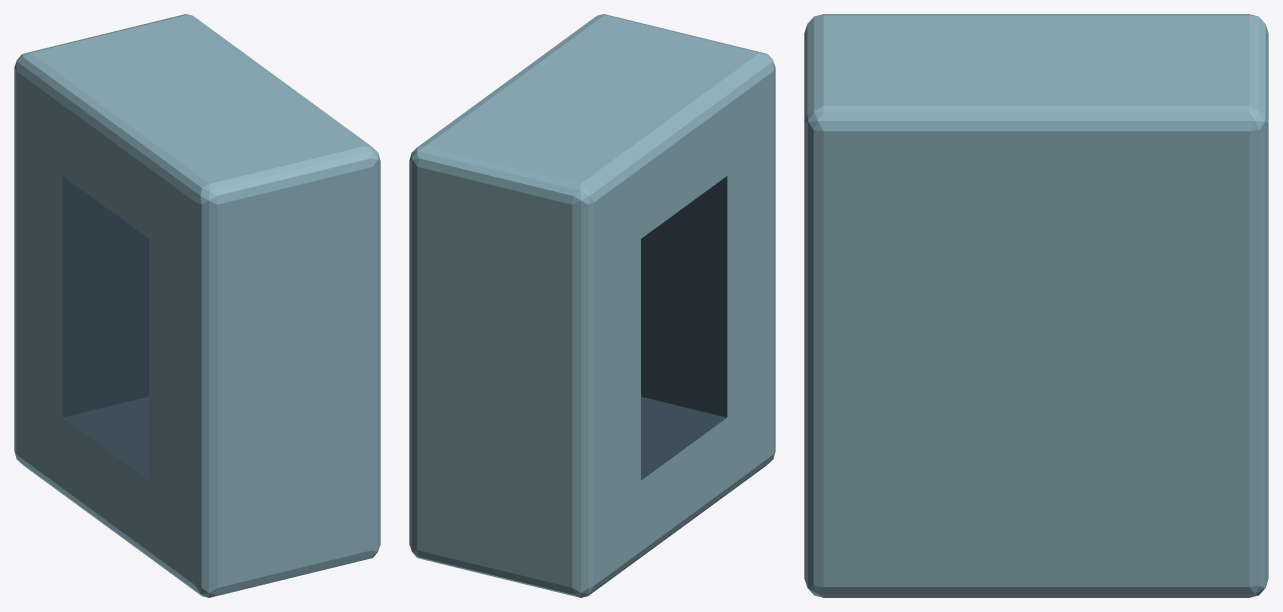
3 views of the same model, side by side, from view 1: azimuth 30°, elevation 25°; view 2: azimuth 150°, elevation 25°; view 3: azimuth 270°, elevation 25° (orthographic). The views are drawn at different scales.
Parts seen in each view (by area): view 1: geometry_0; view 2: geometry_0; view 3: geometry_0.
Boxes of the visible parts, bbox=[...] form: geometry_0: bbox=[14, 14, 380, 597]; geometry_0: bbox=[409, 14, 775, 597]; geometry_0: bbox=[804, 14, 1268, 597].
Size of the model in its own units: 0.013 by 0.028 by 0.024.
1 material, 1 textured.
